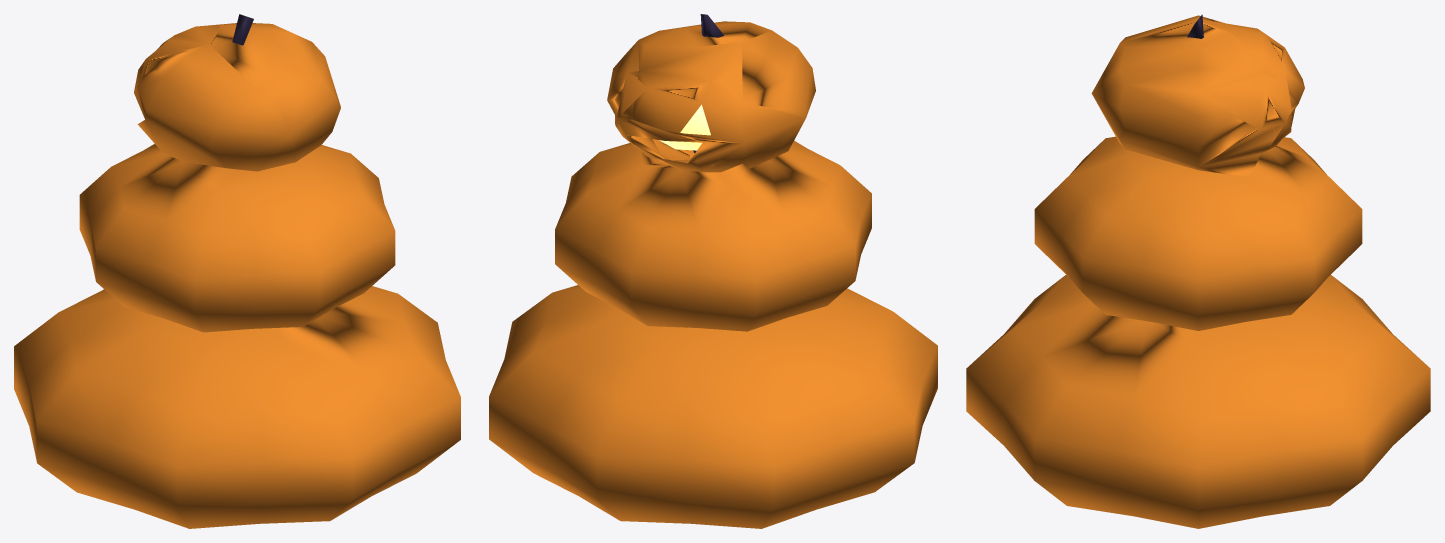
The model's file is pumpkin_stack_low.glb.
The picture shows the model from 3 angles, left to right: view 1: azimuth 30°, elevation 25°; view 2: azimuth 150°, elevation 25°; view 3: azimuth 270°, elevation 25°; orthographic projection.
Bounding box in the file's own units: 0.6948 × 0.7842 × 0.6948.
